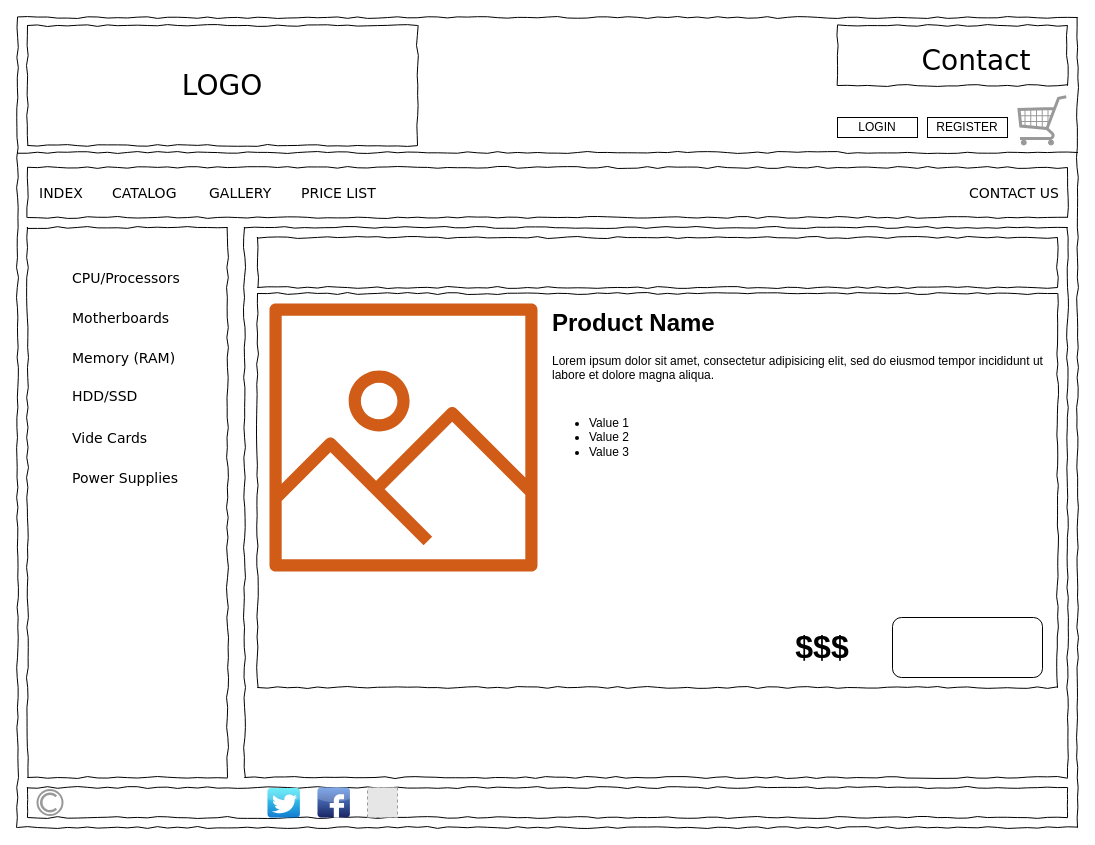
The diagram is 1095 pixels wide and 845 high, and some of its shapes have lost their labels. Grey dashed boxes stand in for pictures. The shapes that lost their labels are listed below. From the top down, each one's centre as x and y in pixels, then its label:
At (x=657, y=262): "PRODUCT INFO".
At (x=967, y=647): "ADD TO CART".
